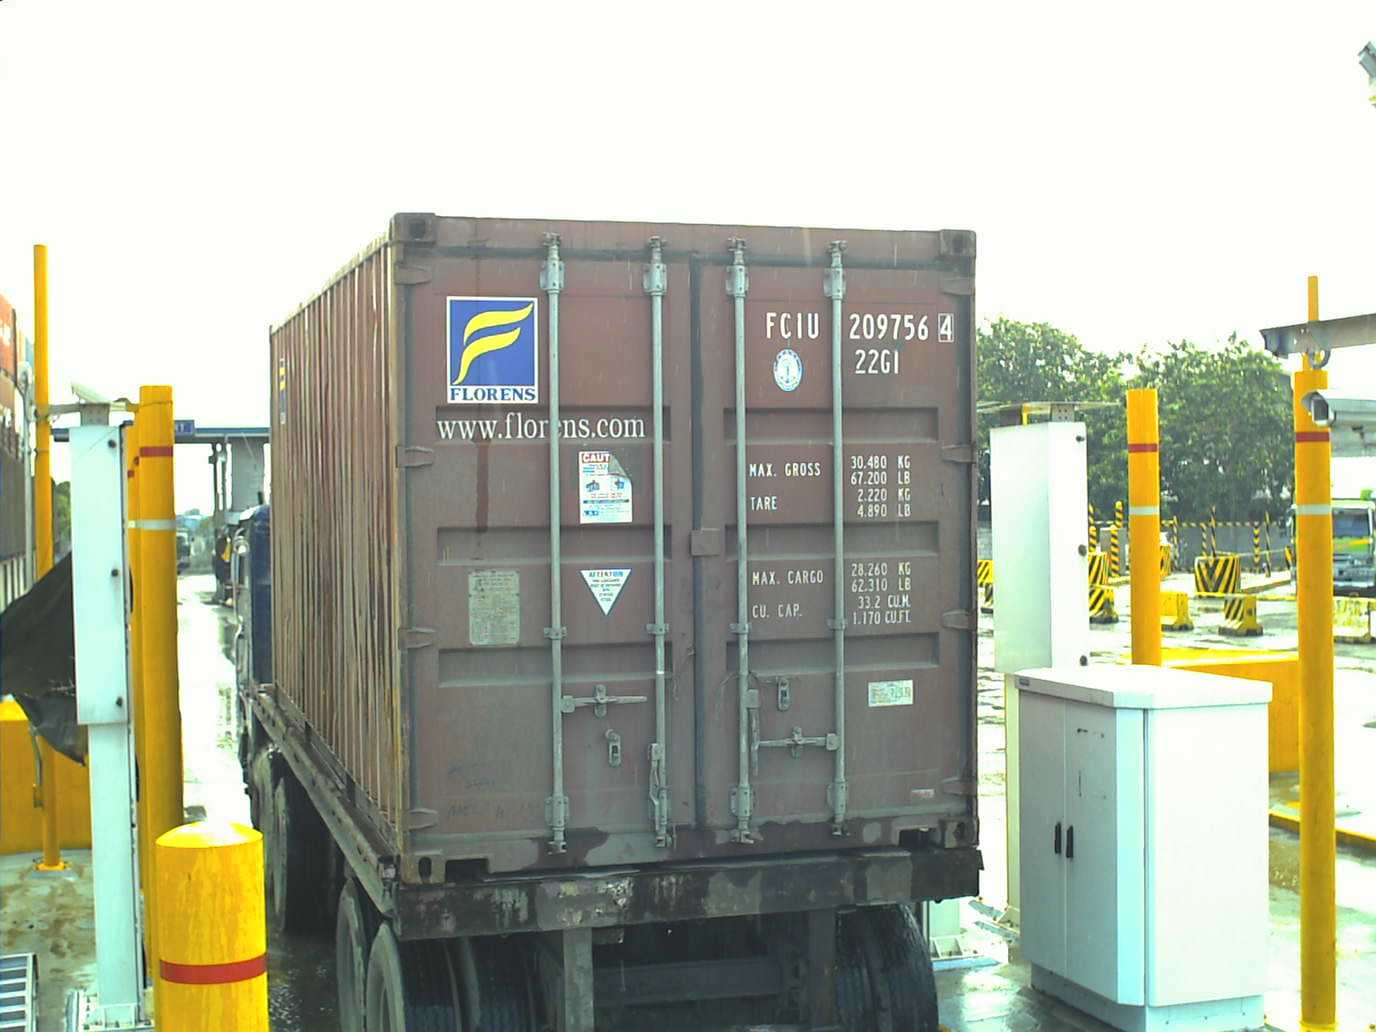container_door: (382, 214, 989, 880)
